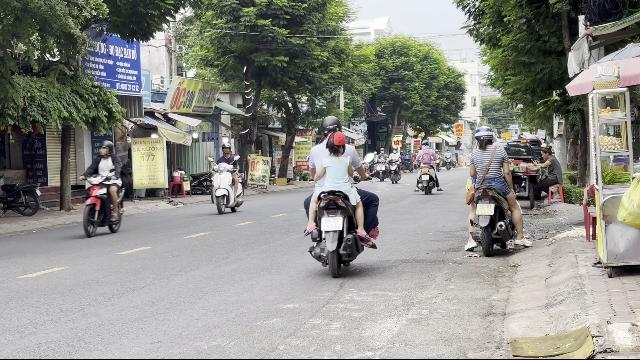helmet: (326, 130, 346, 154), (321, 114, 341, 134), (474, 126, 494, 146), (98, 140, 112, 154), (220, 141, 232, 155)
licenseplate: (322, 218, 342, 231), (476, 204, 494, 214)
motorcyclist: (300, 114, 380, 276), (461, 124, 525, 256), (78, 140, 125, 236), (208, 140, 246, 214)
